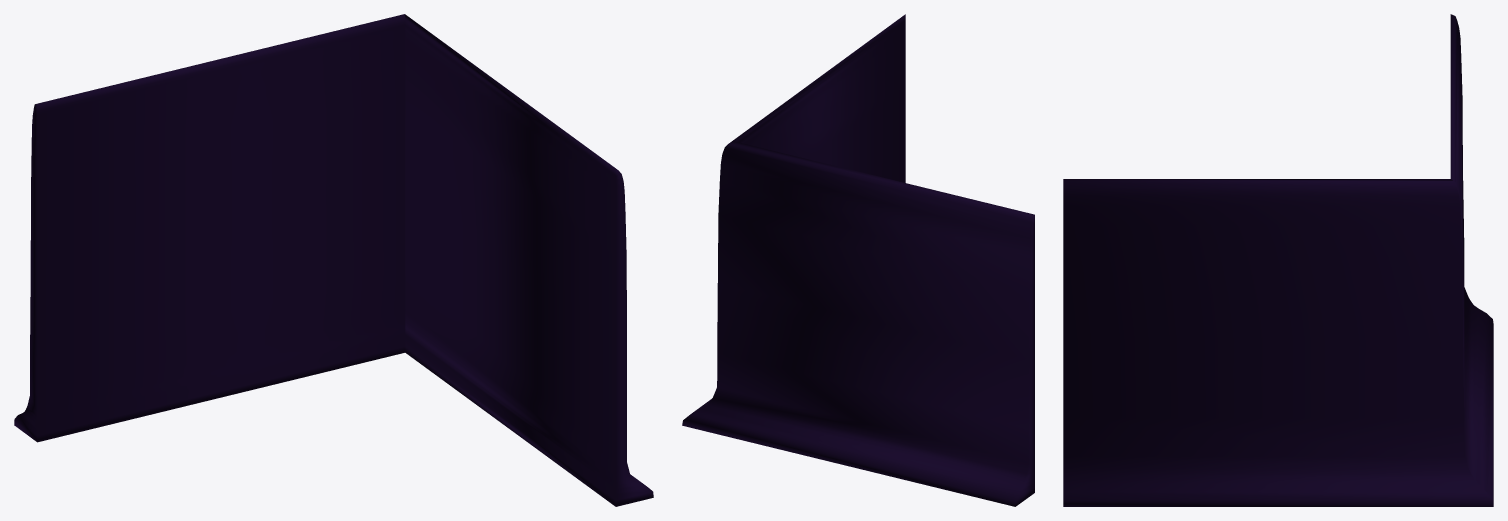
The model's file is FloorboardOutterCorner.fbx.
3 renders of one model, left to right at view 1: azimuth 30°, elevation 25°; view 2: azimuth 150°, elevation 25°; view 3: azimuth 270°, elevation 25°, orthographic. The views are drawn at different scales.
Parts seen in each view (by area): view 1: FloorboardCorner; view 2: FloorboardCorner; view 3: FloorboardCorner.
Boxes of the visible parts, x1,y1,x2,y2 form: FloorboardCorner: [14, 14, 653, 506]; FloorboardCorner: [682, 14, 1034, 506]; FloorboardCorner: [1063, 14, 1493, 506].
Size of the model in its own units: 3000 by 2392 by 2999.
